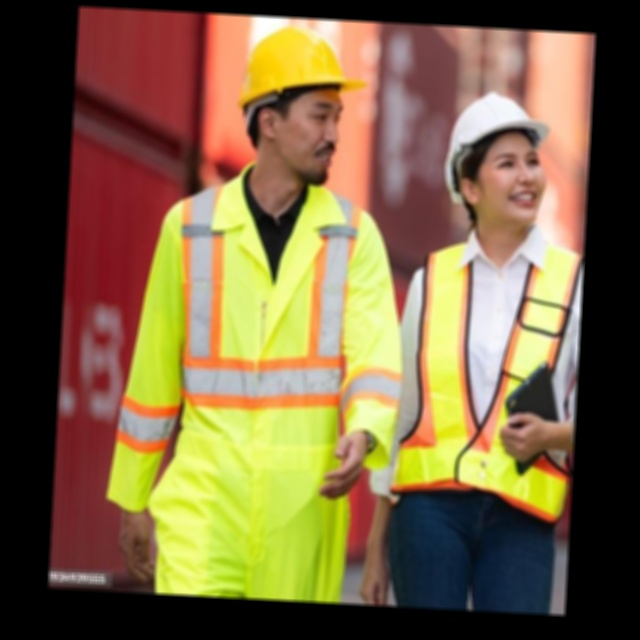Con_Casco: (237, 26, 364, 189), (443, 89, 557, 231)
Con_Chaleco: (153, 176, 381, 432), (394, 231, 584, 512)
